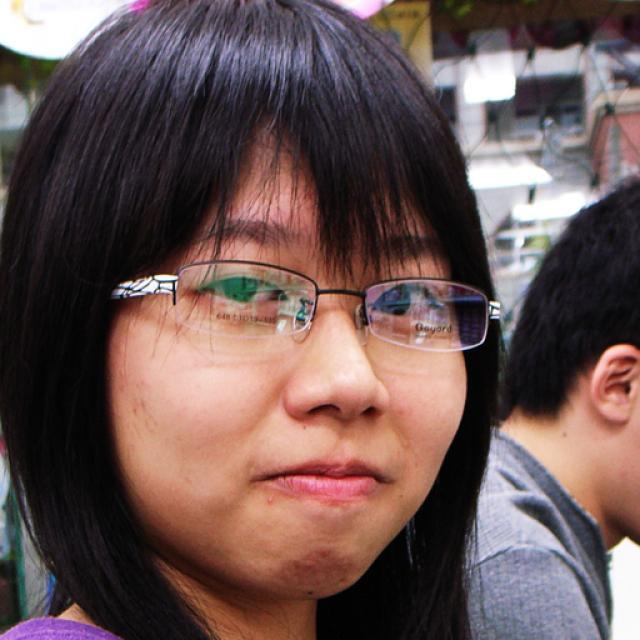neutral: (111, 111, 470, 598)
